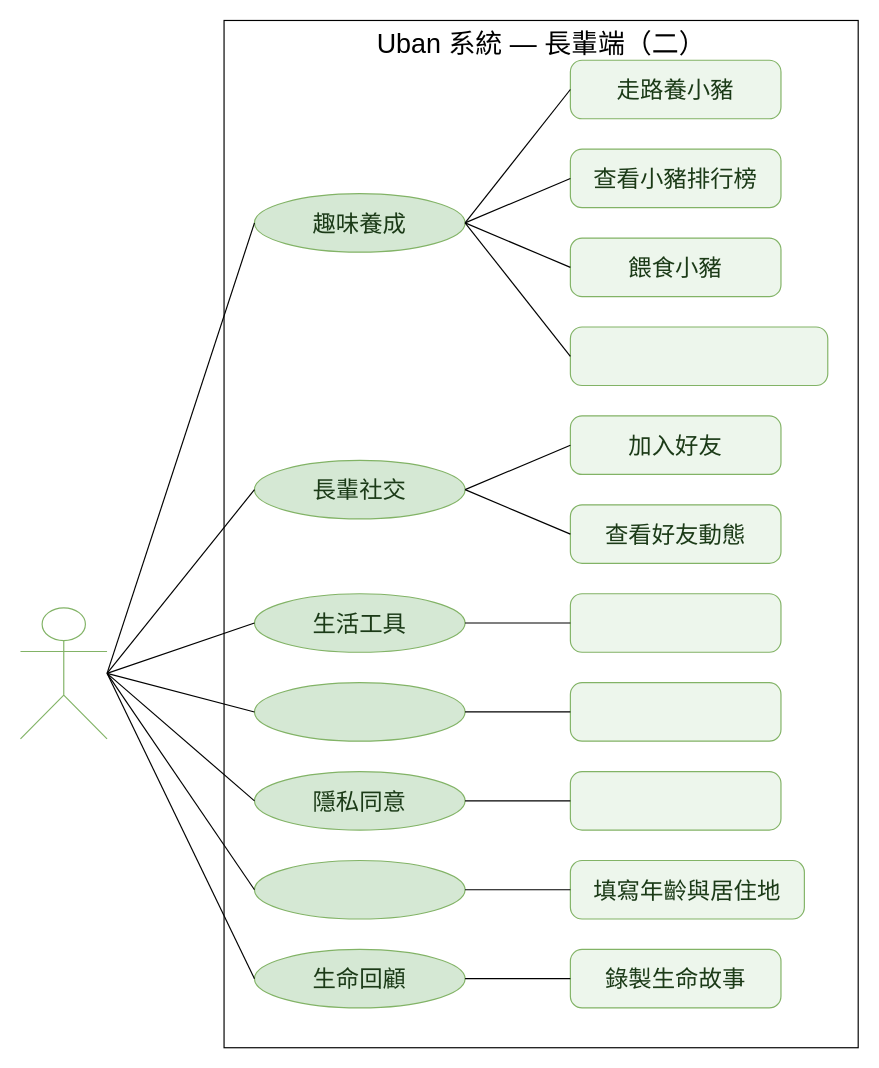
This 879x1068 diagram has some shape labels left out. The shapes that lost their labels are listed below. From the top down, each one's centre as x and y in pixels, then its label:
At [698,356]: "查看成長階段與賽季".
At [675,622]: "查詢農民曆".
At [63,673]: "長輩".
At [359,711]: "新手引導".
At [675,711]: "檢視操作教學".
At [675,800]: "同意隱私權政策".
At [359,889]: "個人資料".
